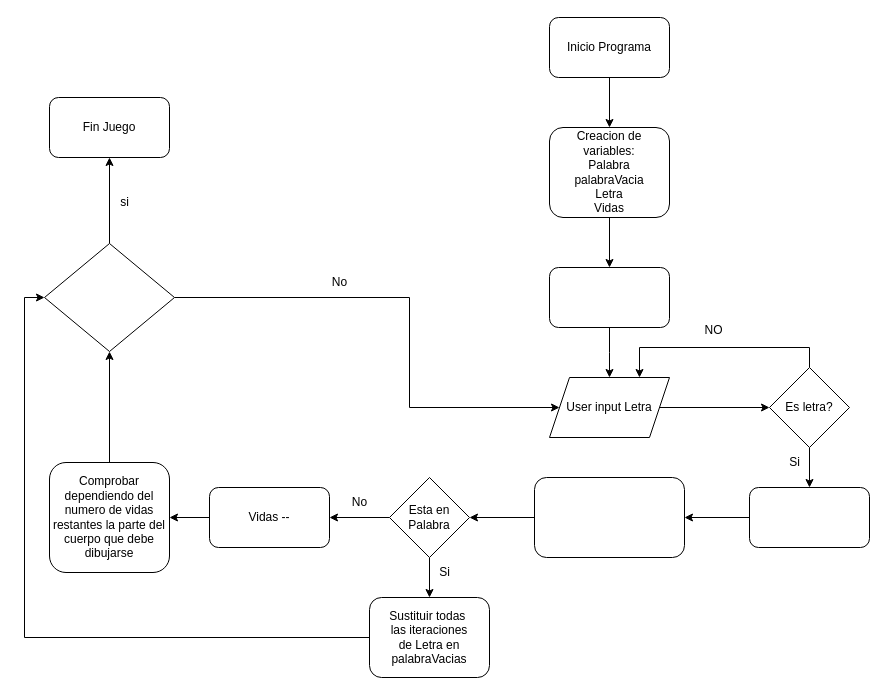
This 887x695 diagram has some shape labels left out. Each missing label, with the centre of its shape:
Comprobar si la Variable Letra se encuentra en la Palabra: point 609,517
Compruebo Vidas == 0 Palabra == palabraVacias: point 109,297
Eleccion de Palabra aleatoria: point 609,297
toUpperCase: point 809,517
